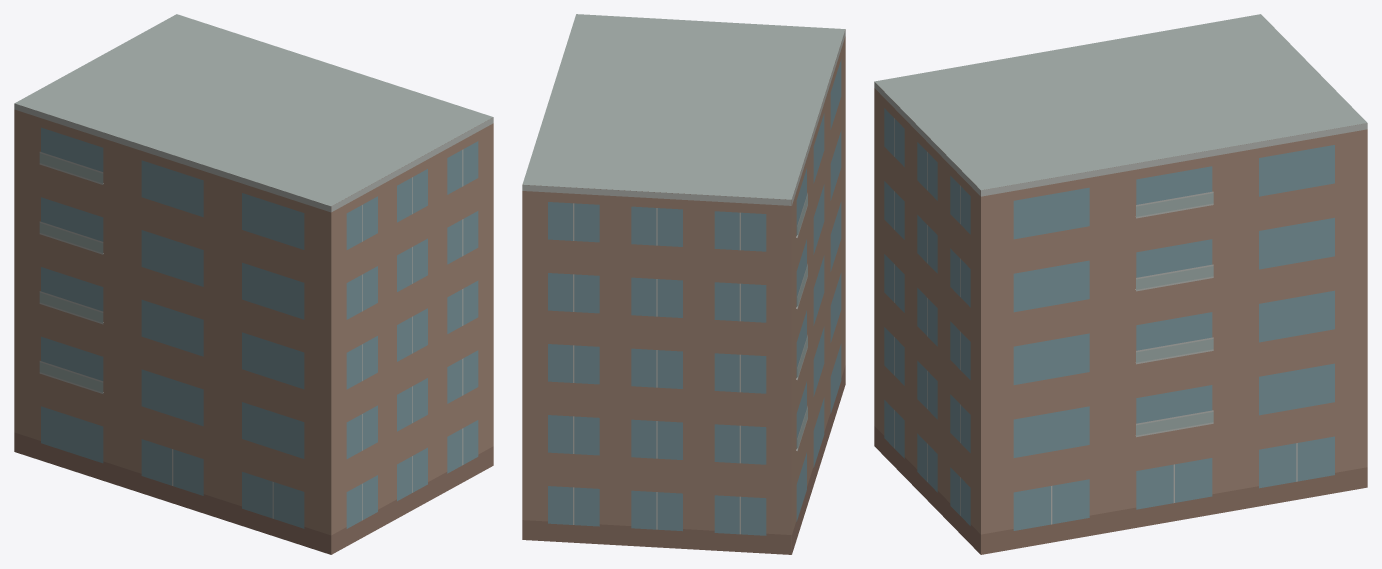
File: survey-upis-33020726.glb
3 renders of one model, left to right at view 1: azimuth 30°, elevation 25°; view 2: azimuth 150°, elevation 25°; view 3: azimuth 270°, elevation 25°, orthographic. The views are drawn at different scales.
Parts seen in each view (by area): view 1: survey-upis-33020726.tmp; view 2: survey-upis-33020726.tmp; view 3: survey-upis-33020726.tmp.
Part boxes in pixels (left/top/right/bottom): survey-upis-33020726.tmp: left=14, top=14, right=493, bottom=554; survey-upis-33020726.tmp: left=522, top=14, right=845, bottom=554; survey-upis-33020726.tmp: left=874, top=14, right=1367, bottom=554.
Size of the model in its own units: 14.53 by 14 by 17.18.
